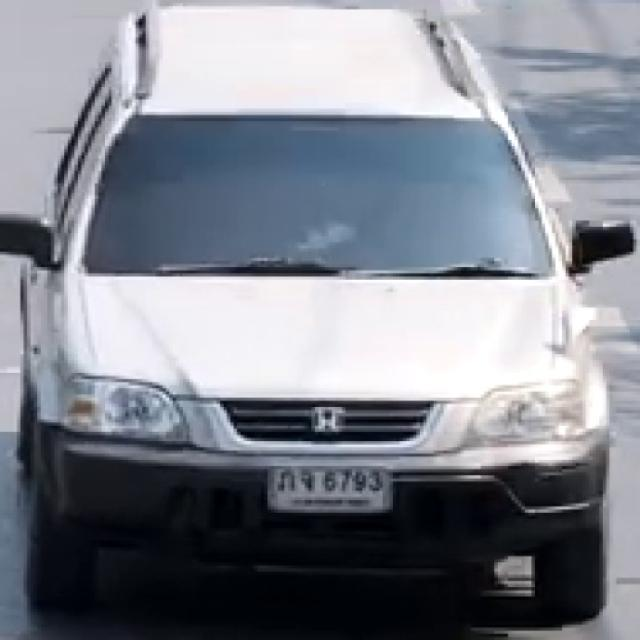plate: (268, 461, 393, 515)
